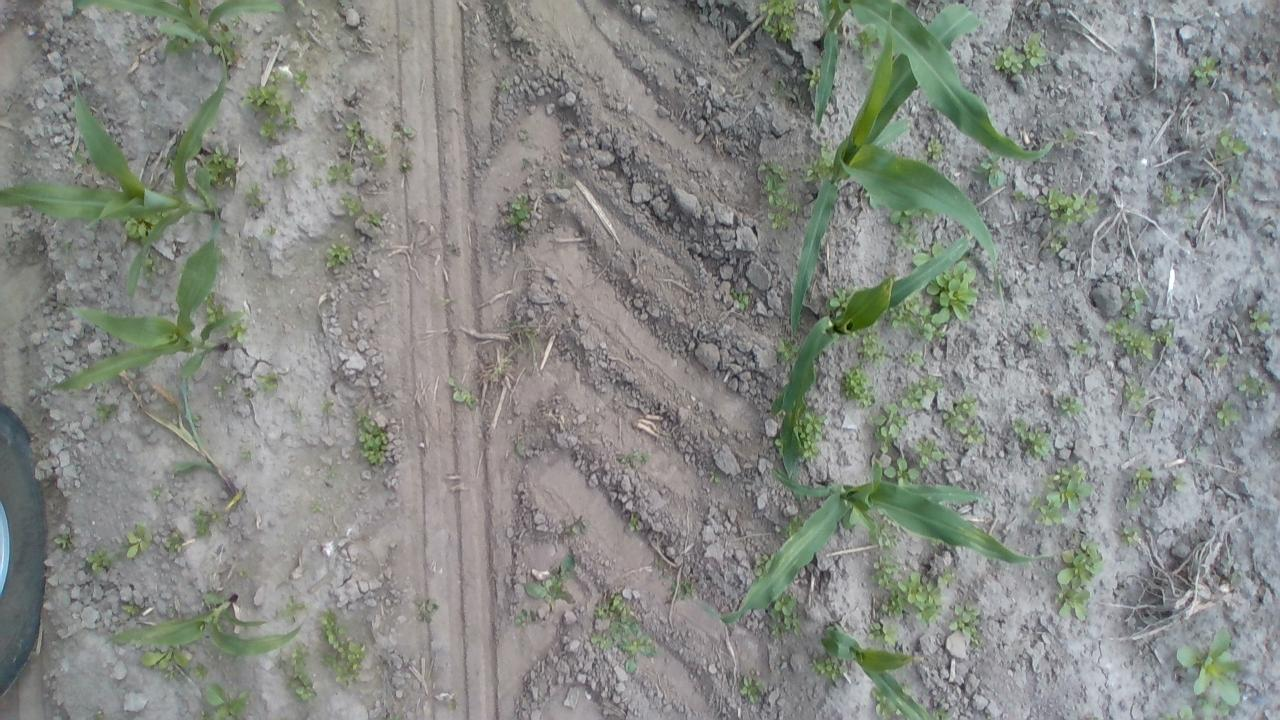Maize: (789, 0, 1008, 339), (0, 46, 227, 296), (772, 234, 972, 515), (694, 468, 1054, 624), (30, 174, 228, 393), (812, 0, 1054, 163), (98, 590, 306, 660), (67, 0, 288, 58), (821, 623, 940, 720)
Weeds: (1175, 626, 1244, 706), (590, 594, 657, 673), (1053, 540, 1105, 622), (1031, 463, 1093, 526), (881, 572, 943, 627), (926, 260, 980, 322), (888, 290, 951, 341), (1036, 186, 1099, 226), (1102, 316, 1156, 362), (524, 556, 576, 602), (942, 392, 985, 444), (846, 318, 887, 368), (284, 643, 318, 703), (869, 402, 907, 452), (140, 644, 191, 681), (356, 408, 388, 465), (840, 360, 876, 408), (1011, 418, 1052, 459), (758, 0, 799, 41), (242, 85, 292, 118), (316, 608, 348, 658), (950, 602, 984, 649), (769, 590, 802, 637), (206, 684, 249, 720), (205, 144, 240, 188), (757, 163, 789, 210), (796, 409, 826, 459), (1160, 700, 1232, 720), (901, 376, 942, 411), (804, 141, 835, 185), (972, 148, 1004, 189), (122, 214, 160, 246), (1126, 464, 1152, 510), (913, 436, 948, 470), (881, 456, 920, 486), (1214, 126, 1248, 160), (990, 44, 1026, 74), (506, 193, 530, 236), (871, 687, 902, 720), (888, 207, 936, 228), (194, 505, 223, 538), (321, 655, 350, 688), (810, 654, 844, 682), (126, 522, 152, 558), (871, 554, 900, 586), (213, 30, 250, 55), (1236, 373, 1272, 398), (447, 377, 475, 408), (852, 25, 879, 57), (1120, 286, 1146, 319), (1023, 33, 1046, 70), (1124, 375, 1147, 412), (162, 33, 198, 56), (739, 674, 766, 704), (365, 135, 388, 170), (870, 522, 898, 550), (912, 243, 946, 266), (348, 640, 367, 680), (1192, 56, 1218, 85), (751, 552, 774, 584), (325, 242, 353, 268), (1215, 399, 1240, 428), (866, 623, 898, 645), (774, 338, 800, 364), (86, 548, 111, 573), (1058, 394, 1082, 420), (204, 292, 224, 322), (243, 182, 266, 208), (824, 286, 848, 310), (894, 226, 920, 248), (94, 401, 117, 425), (780, 514, 804, 537), (669, 580, 696, 600), (1152, 322, 1174, 346), (1161, 182, 1183, 206), (226, 319, 248, 343), (327, 163, 353, 183), (140, 253, 159, 280), (339, 194, 362, 216), (292, 68, 312, 93), (802, 65, 821, 91), (616, 450, 651, 464), (1050, 228, 1068, 255), (415, 599, 437, 621), (924, 138, 944, 162), (280, 595, 302, 616), (257, 372, 278, 394), (1028, 324, 1051, 344), (270, 156, 290, 179), (767, 210, 790, 230), (563, 520, 591, 536), (729, 288, 749, 310), (1120, 524, 1139, 547), (902, 348, 926, 366), (1250, 310, 1270, 331), (877, 508, 898, 528), (259, 118, 278, 140), (554, 170, 574, 190), (164, 533, 182, 555), (121, 598, 139, 620), (1072, 338, 1091, 356), (346, 118, 360, 142), (1187, 185, 1205, 202), (111, 542, 126, 562), (1227, 174, 1241, 195), (54, 532, 72, 548), (1208, 354, 1228, 368), (628, 512, 642, 532), (774, 77, 788, 97), (269, 70, 287, 85), (774, 431, 784, 458), (392, 126, 414, 138), (514, 610, 528, 628), (865, 54, 879, 72), (524, 327, 538, 345), (864, 191, 878, 209), (1173, 472, 1186, 491), (72, 150, 88, 165), (154, 208, 178, 218), (193, 664, 208, 680), (213, 380, 226, 398), (931, 709, 952, 720), (938, 568, 954, 582), (163, 153, 176, 170), (1271, 79, 1280, 103), (1144, 410, 1156, 428), (786, 202, 804, 214), (282, 118, 296, 133), (365, 211, 381, 224), (150, 485, 164, 499), (319, 398, 333, 412), (229, 11, 242, 26), (1012, 189, 1026, 202), (1062, 129, 1075, 142), (398, 162, 412, 174), (1226, 572, 1238, 584), (710, 471, 721, 483), (263, 224, 275, 235), (310, 502, 323, 512), (198, 711, 212, 720), (218, 248, 225, 264), (60, 242, 71, 252), (899, 683, 910, 693), (224, 376, 236, 385), (386, 714, 404, 720), (300, 30, 310, 40), (312, 176, 322, 186), (326, 468, 336, 478), (499, 80, 509, 90), (238, 568, 248, 578), (930, 538, 941, 547), (240, 450, 252, 458), (246, 235, 253, 248), (168, 406, 178, 415), (446, 700, 455, 710), (263, 40, 271, 50), (165, 607, 175, 615), (172, 86, 182, 94), (516, 441, 522, 453), (192, 413, 200, 422), (298, 0, 304, 6)
